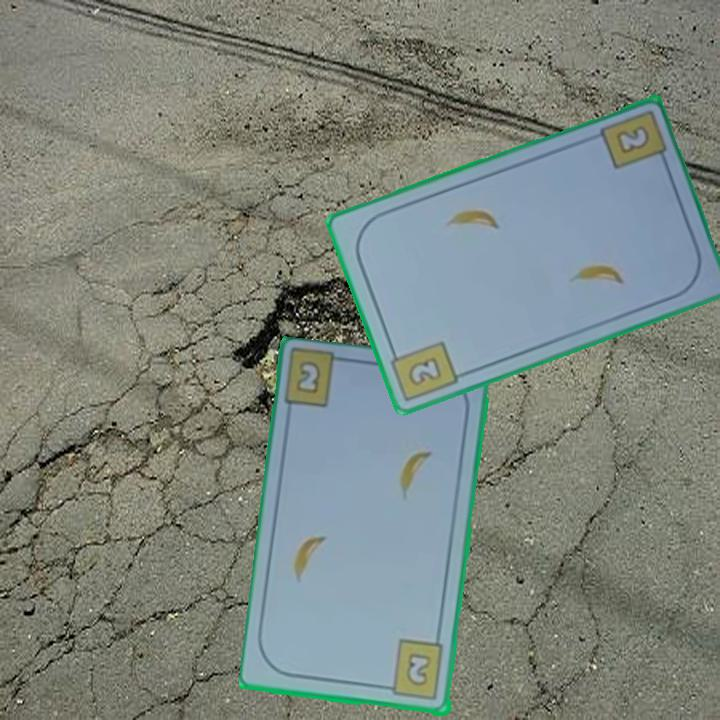2b: (386, 338, 462, 404), (380, 637, 447, 703), (611, 121, 653, 158), (292, 357, 324, 398)
